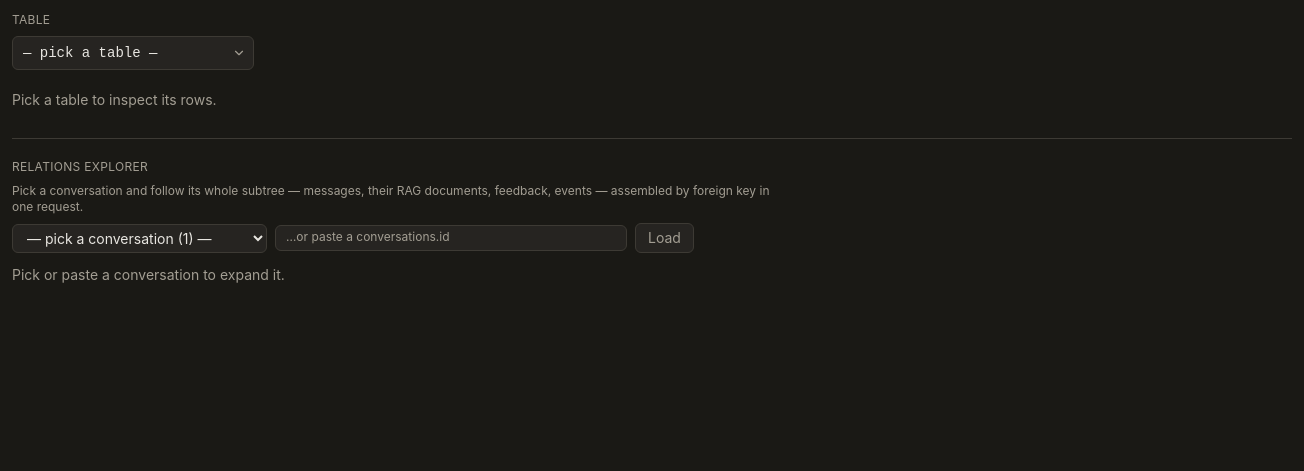
Test case: DbViz › loads the picked table and renders its grid with a count line
This screenshot has width=1304, height=471.
Select "conversations — 12 rows" in the 1st dropdown: (133, 53) [12,36,254,70]
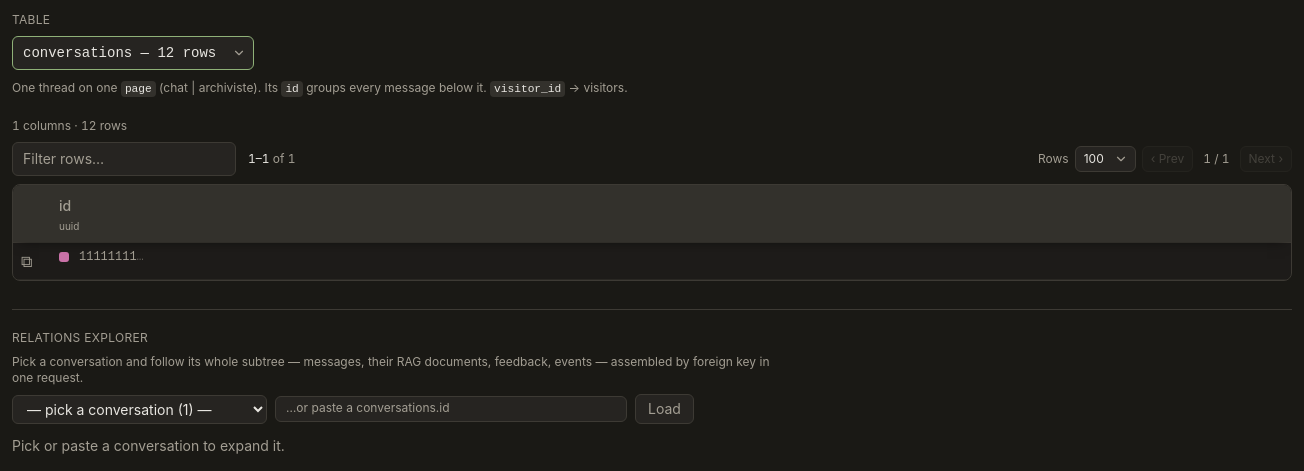
expect the text "1 columns · 12 rows" is shown: met, box [12,118,127,133]
expect the table is shown: met, box [13,185,1291,280]
